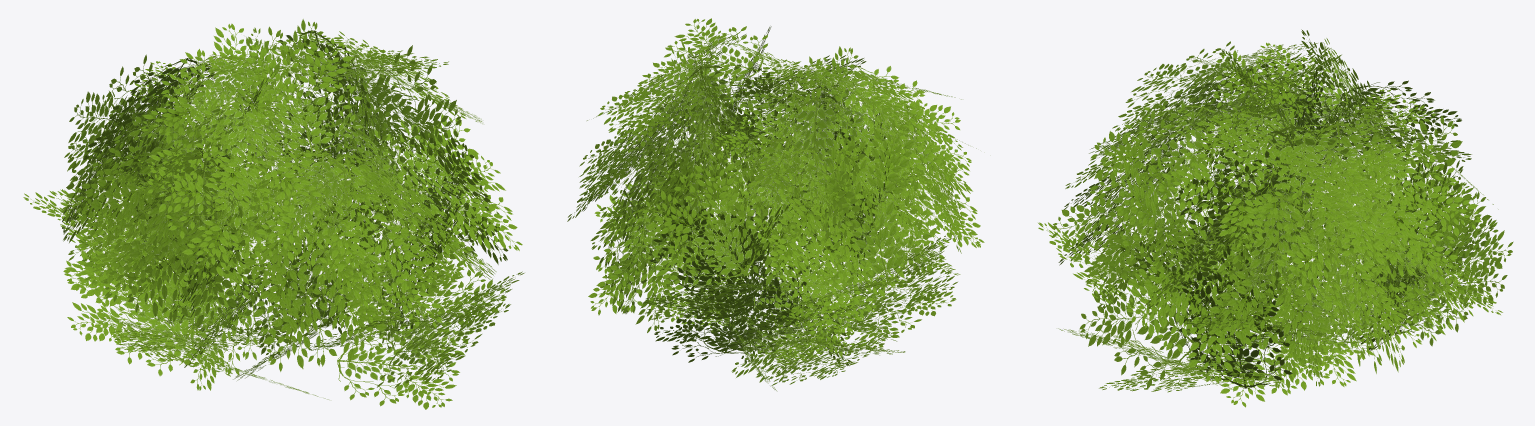
Rendered from bush_3.glb.
3 views of the same model, side by side, from view 1: azimuth 30°, elevation 25°; view 2: azimuth 150°, elevation 25°; view 3: azimuth 270°, elevation 25° (orthographic). The views are drawn at different scales.
Visible parts, largest first — view 1: leaves; view 2: leaves; view 3: leaves.
Part boxes in pixels (x1=…): leaves: x1=23, y1=19, x2=524, y2=409; leaves: x1=567, y1=18, x2=984, y2=391; leaves: x1=1038, y1=29, x2=1513, y2=407.
Bounding box in the file's own units: 1.53 × 1.26 × 1.68.
Materials: 1 (1 with a texture image).
